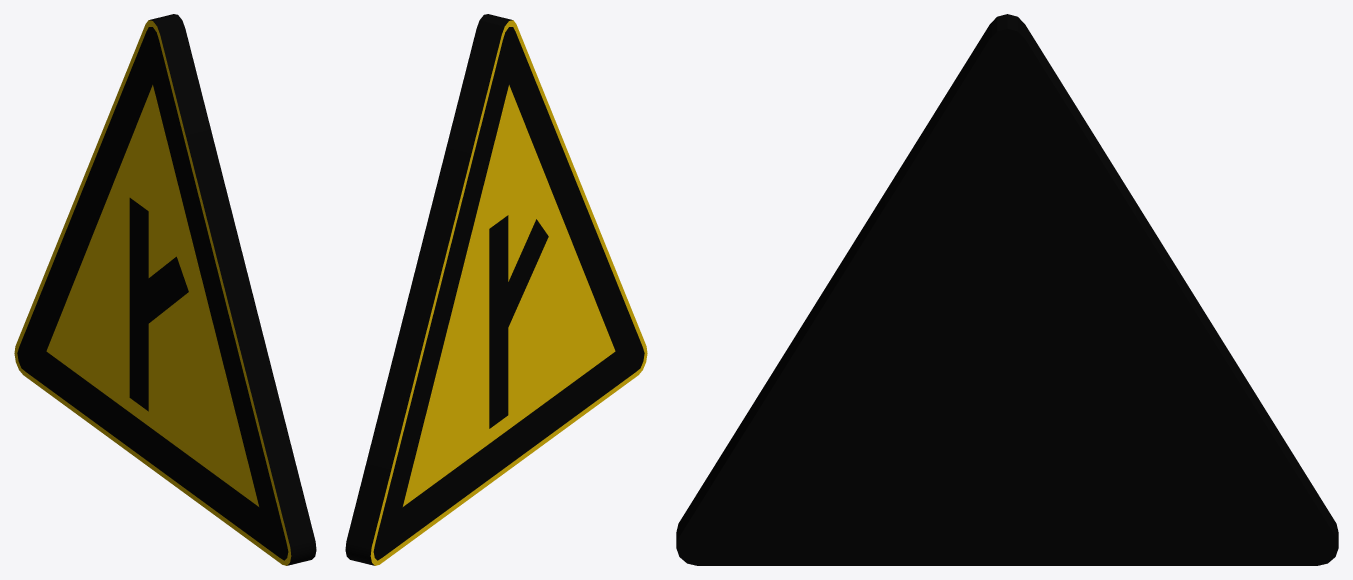
The model's file is Y_Crossing-4.fbx.
3 views of the same model, side by side, from view 1: azimuth 30°, elevation 25°; view 2: azimuth 150°, elevation 25°; view 3: azimuth 270°, elevation 25° (orthographic). The views are drawn at different scales.
Visible parts, largest first — view 1: Y_Crossing_4; view 2: Y_Crossing_4; view 3: Y_Crossing_4.
Boxes of the visible parts, x1,y1,x2,y2 form: Y_Crossing_4: (14, 14, 316, 565); Y_Crossing_4: (345, 14, 647, 565); Y_Crossing_4: (676, 14, 1338, 565).
Size of the model in its own units: 0.0643 by 1.02 by 1.14.
